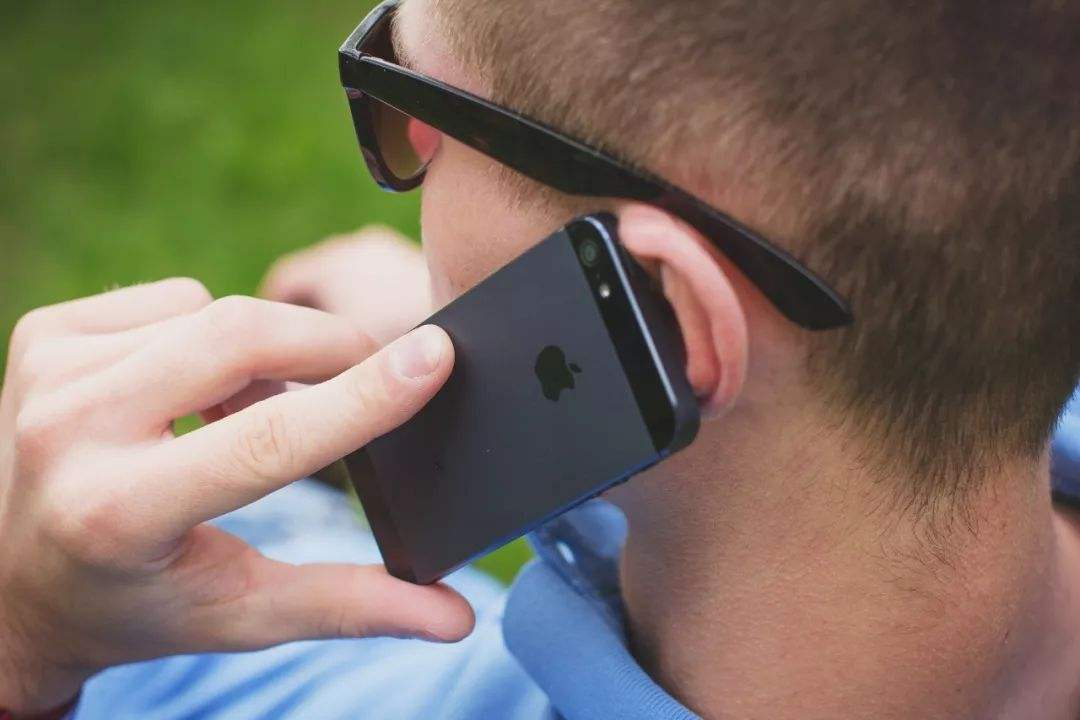calling: (5, 209, 707, 659)
